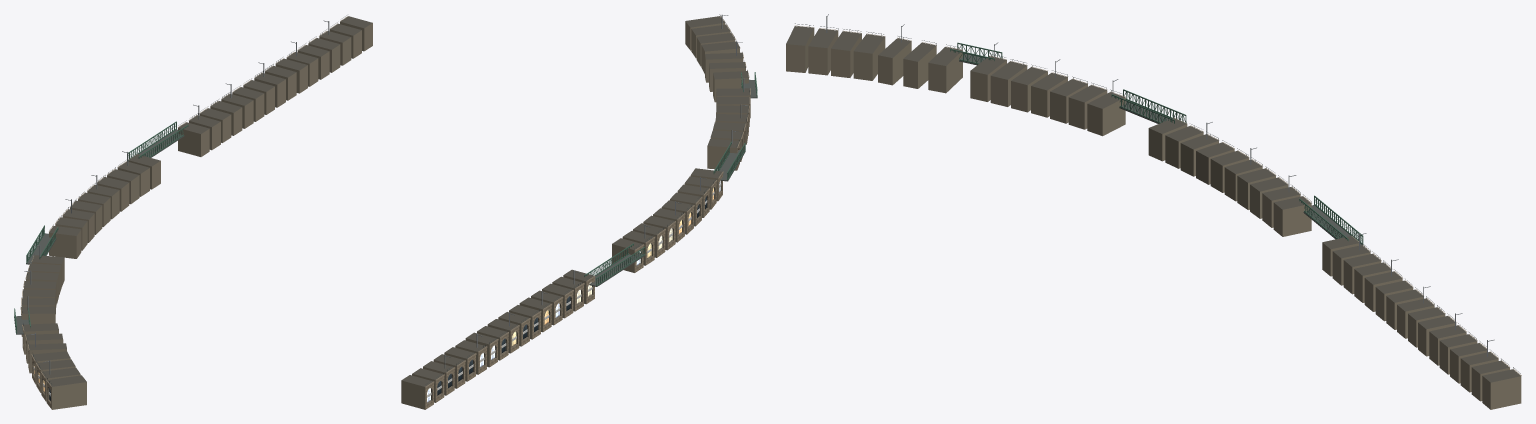
File: viadukt_arches.glb
The picture shows the model from 3 angles, left to right: view 1: azimuth 30°, elevation 25°; view 2: azimuth 210°, elevation 25°; view 3: azimuth 270°, elevation 25°; orthographic projection. The views are drawn at different scales.
Visible parts, largest first — view 1: viadukt; view 2: viadukt; view 3: viadukt.
Part boxes in pixels (x1,y1,x2,y2): viadukt: [14, 15, 372, 409]; viadukt: [401, 14, 757, 409]; viadukt: [786, 14, 1521, 409].
Bounding box in the file's own units: 349 × 21.03 × 306.
Materials: 3 (3 with a texture image).
